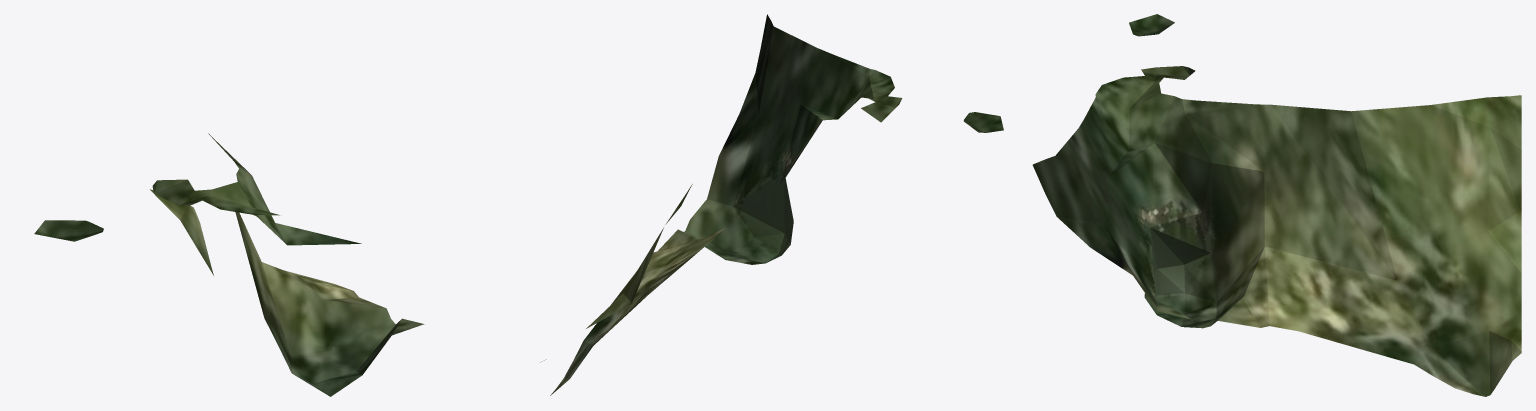
3 views of the same model, side by side, from view 1: azimuth 30°, elevation 25°; view 2: azimuth 150°, elevation 25°; view 3: azimuth 270°, elevation 25° (orthographic). The views are drawn at different scales.
Size of the model in its own units: 1.99 by 1.43 by 2.73.
1 material, 1 textured.
